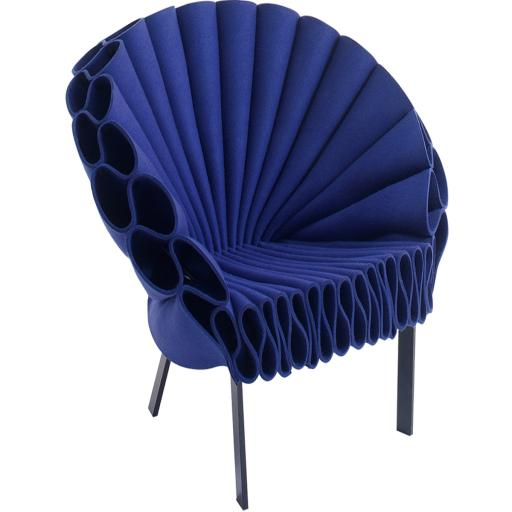chair: (65, 0, 448, 511)
